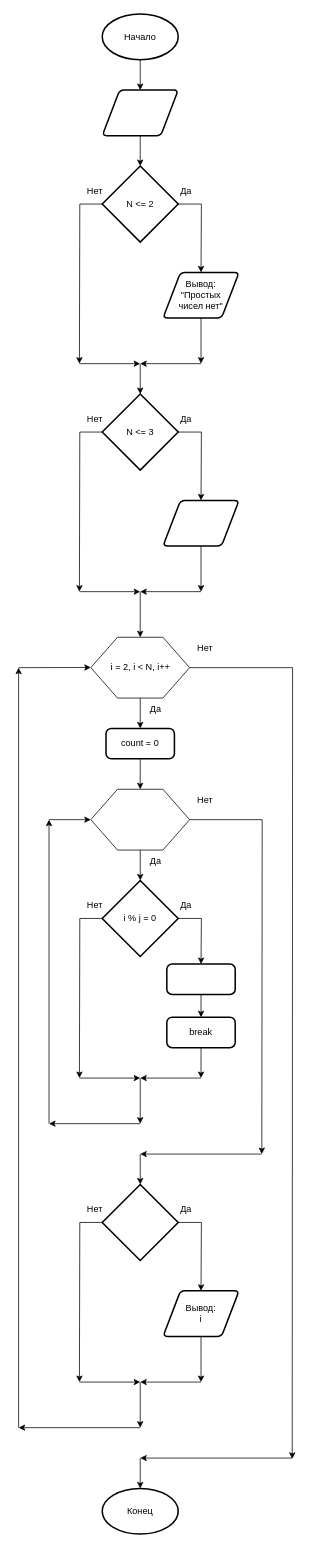
The diagram is 312 pixels wide and 1547 high, and some of its shapes have lost their labels. Here are the shapes that lost their labels. From the top down, the centre of each, then its label:
pixel 140 112: Ввод N
pixel 200 522: Вывод: "2"
pixel 140 819: j = i / 2, j > 1, j--
pixel 201 979: count++
pixel 140 1222: i < 1
